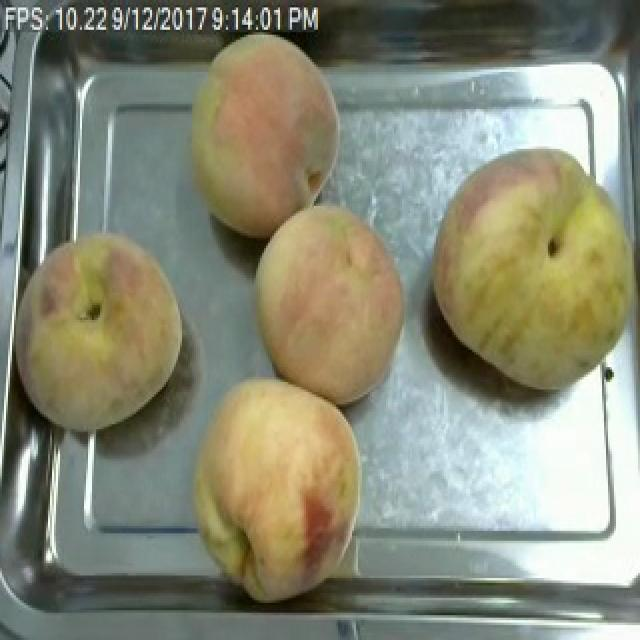Fruit: (420, 139, 640, 402), (180, 367, 378, 610), (12, 218, 194, 442), (178, 17, 352, 248), (242, 193, 416, 414)
